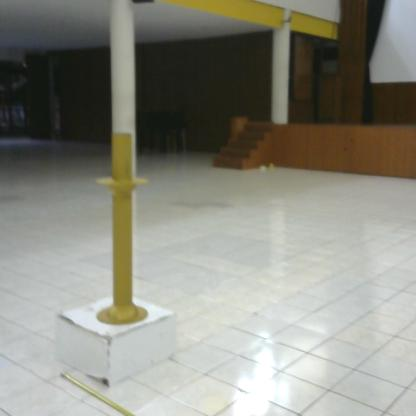pole: (91, 128, 154, 333)
